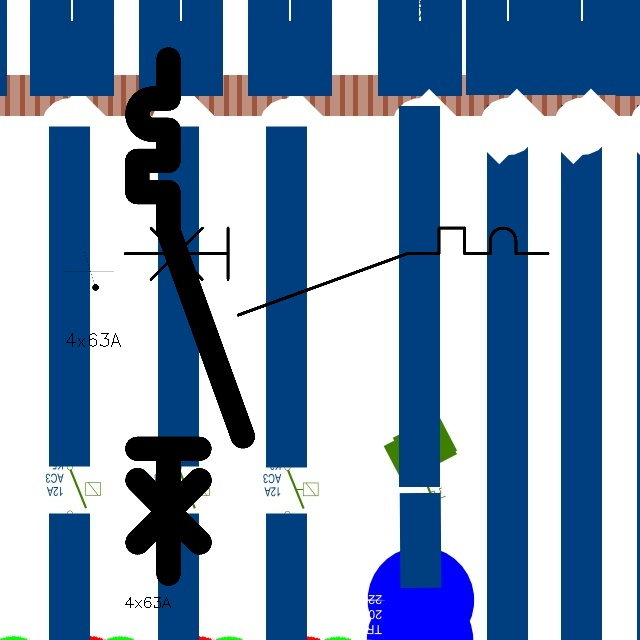interruptor_termomagnetico: (124, 46, 256, 587), (114, 217, 558, 326)
